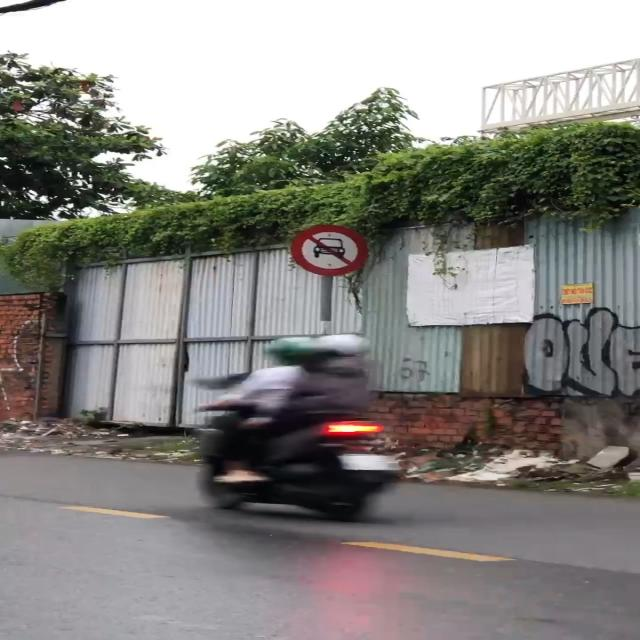Bien bao cam xe oto: (291, 222, 369, 274)
